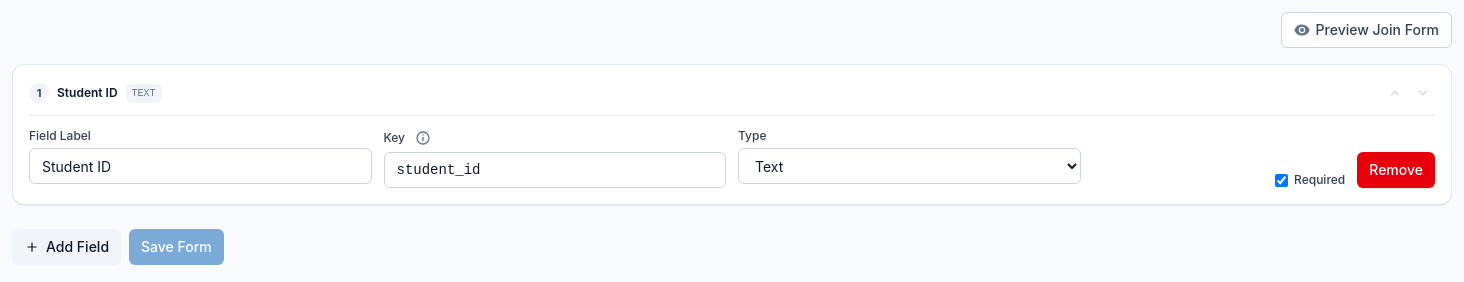
Test: FormBuilder — label and key stay in step (ADR-065) › cannot save a blank label with a leftover key
The image size is (1464, 282).
Clear the field named "Field 1 label" at point(200, 166), box [29,148,372,184]
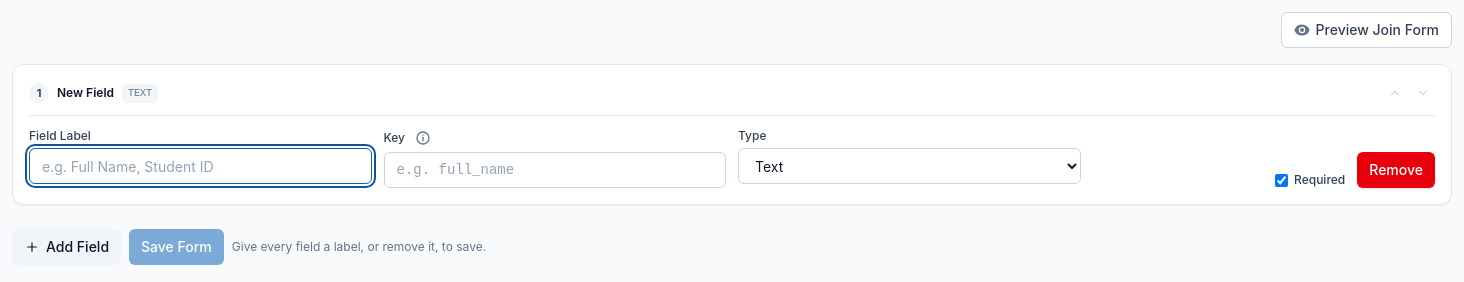
Expected: the button "Save Form" is disabled, [129,229,224,265]
Result: the text "Give every field a label, or remove it, to save." is shown at [232,239,486,255]
